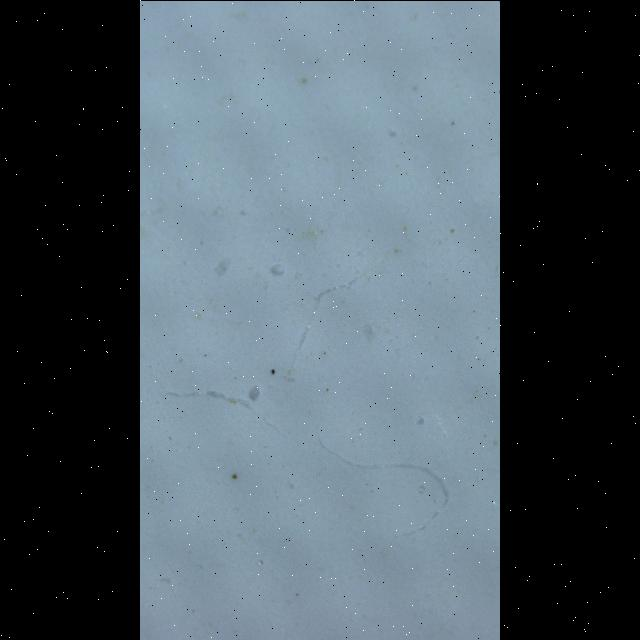Fibre: (318, 432, 449, 537), (289, 276, 358, 374), (165, 390, 252, 408), (264, 417, 278, 429)
Fragment: (249, 385, 260, 400), (271, 263, 284, 274)
